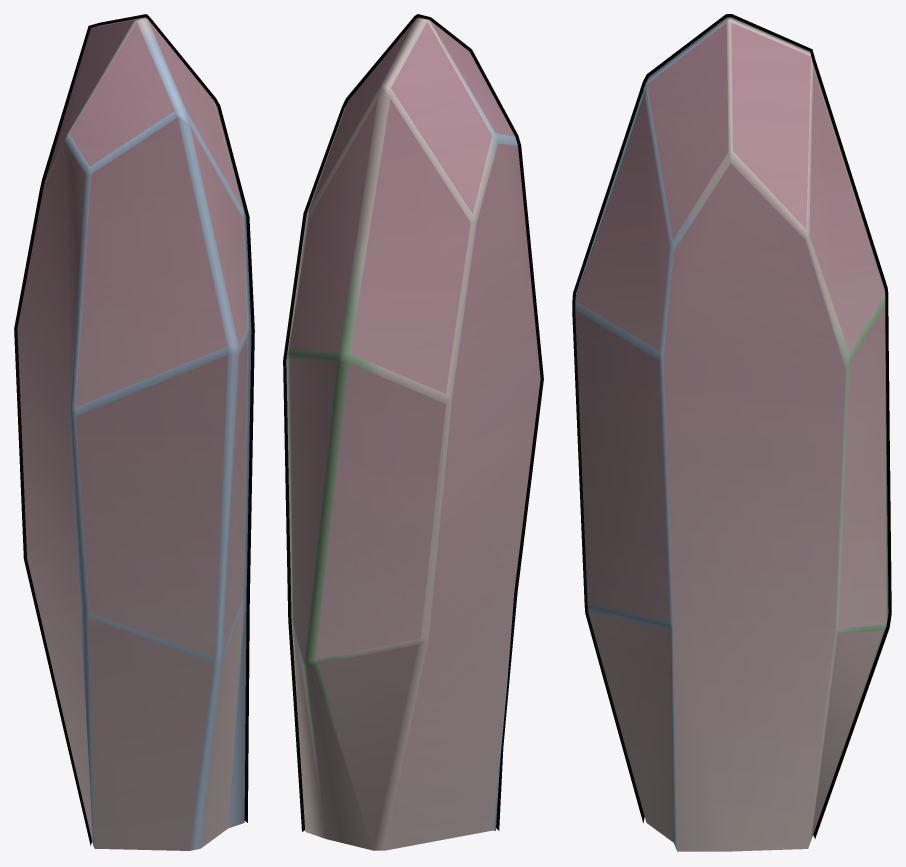
File: pm-crystal-small-01.glb
3 renders of one model, left to right at view 1: azimuth 30°, elevation 25°; view 2: azimuth 150°, elevation 25°; view 3: azimuth 270°, elevation 25°, orthographic.
Visible parts, largest first — view 1: Crystal_Small_01; view 2: Crystal_Small_01; view 3: Crystal_Small_01.
Part boxes in pixels (<box>): Crystal_Small_01: <box>14,14,254,850</box>; Crystal_Small_01: <box>283,14,543,850</box>; Crystal_Small_01: <box>572,14,891,851</box>.
Bounding box in the file's own units: 1.09 × 4.74 × 1.72.
2 materials, 1 textured.
